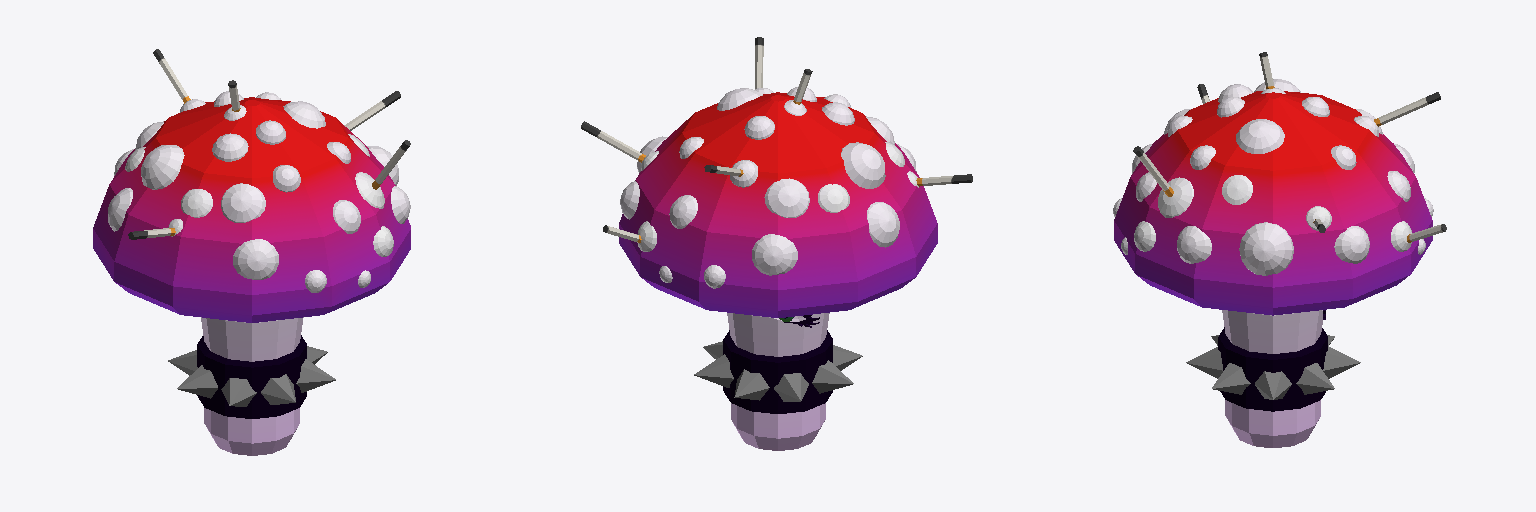
3 views of the same model, side by side, from view 1: azimuth 30°, elevation 25°; view 2: azimuth 150°, elevation 25°; view 3: azimuth 270°, elevation 25° (orthographic).
Parts seen in each view (by area): view 1: pDisc3 group7, group7 pSphere25, group7 pSphere32, group7 pSphere18, group7 pSphere34, group7 pCone7, group7 pCone1, group7 pSphere29, group7 pSphere26, group7 pCone8, group7 pSphere21, group7 pCone2 (+5 smaller); view 2: pDisc3 group7, group7 pSphere32, group7 pSphere10, group7 pSphere11, group7 pSphere33, group7 pCone7, group7 pCone5, group7 pSphere9, group7 pCone6, group7 pSphere13, group7 pCone4, group7 pCylinder32 (+5 smaller); view 3: pDisc3 group7, group7 pSphere30, group7 pSphere29, group7 pSphere19, group7 pSphere16, group7 pSphere7, group7 pCone3, group7 pSphere31, group7 pCone4, group7 pCone2, group7 pCone5, group7 pCone1 (+2 smaller).
Part boxes in pixels (x1,y1,x2,y2): pDisc3 group7: (93,97,410,455); group7 pSphere25: (233,239,278,279); group7 pSphere32: (141,145,184,189); group7 pSphere18: (221,183,265,222); group7 pSphere34: (212,133,248,161); group7 pCone7: (177,365,217,398); group7 pCone1: (261,374,295,404); group7 pSphere29: (283,101,325,128); group7 pSphere26: (181,189,212,217); group7 pCone8: (221,378,256,406); group7 pSphere21: (333,200,360,233); group7 pCone2: (296,359,335,392); pDisc3 group7: (619,92,937,450); group7 pSphere32: (841,142,885,188); group7 pSphere10: (752,234,797,275); group7 pSphere11: (764,178,809,217); group7 pSphere33: (867,202,899,247); group7 pCone7: (812,360,853,393); group7 pCone5: (734,369,769,400); group7 pSphere9: (818,184,849,212); group7 pCone6: (774,373,808,401); group7 pSphere13: (669,195,697,228); group7 pCone4: (694,354,733,387); group7 pCylinder32: (581,121,645,162); pDisc3 group7: (1114,91,1432,447); group7 pSphere30: (1239,222,1293,275); group7 pSphere29: (1236,119,1284,153); group7 pSphere19: (1177,226,1211,263); group7 pSphere16: (1334,226,1369,263); group7 pSphere7: (1158,177,1193,217); group7 pCone3: (1255,371,1291,399); group7 pSphere31: (1222,175,1252,204); group7 pCone4: (1296,363,1334,394); group7 pCone2: (1212,363,1250,394); group7 pCone5: (1323,346,1360,378); group7 pCone1: (1186,347,1222,378).
Bounding box in the file's own units: 126 × 137 × 110.
Materials: 1 (1 with a texture image).